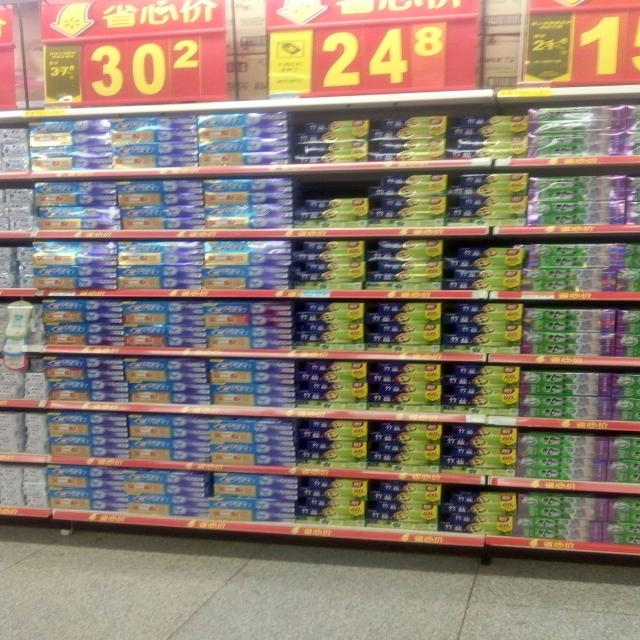unorganised: (210, 470, 299, 501), (294, 119, 369, 139), (295, 195, 368, 211)
